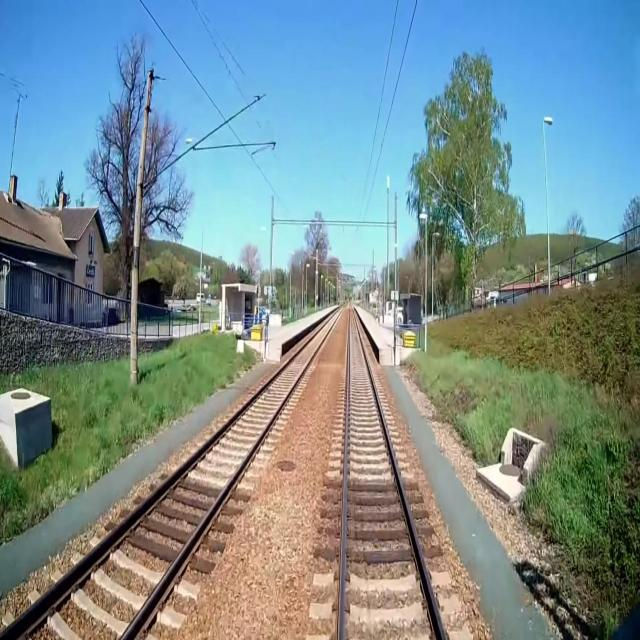rail-track: (0, 312, 339, 639), (344, 308, 441, 639)
